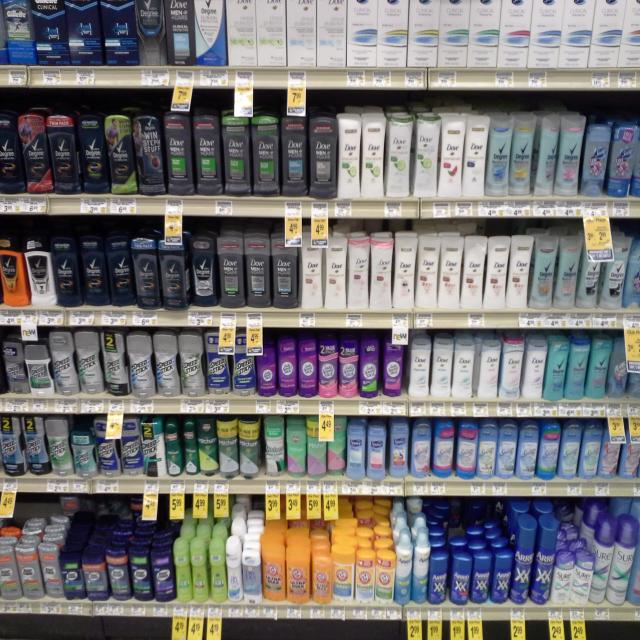unorganised: (535, 115, 560, 198), (478, 340, 502, 398)
